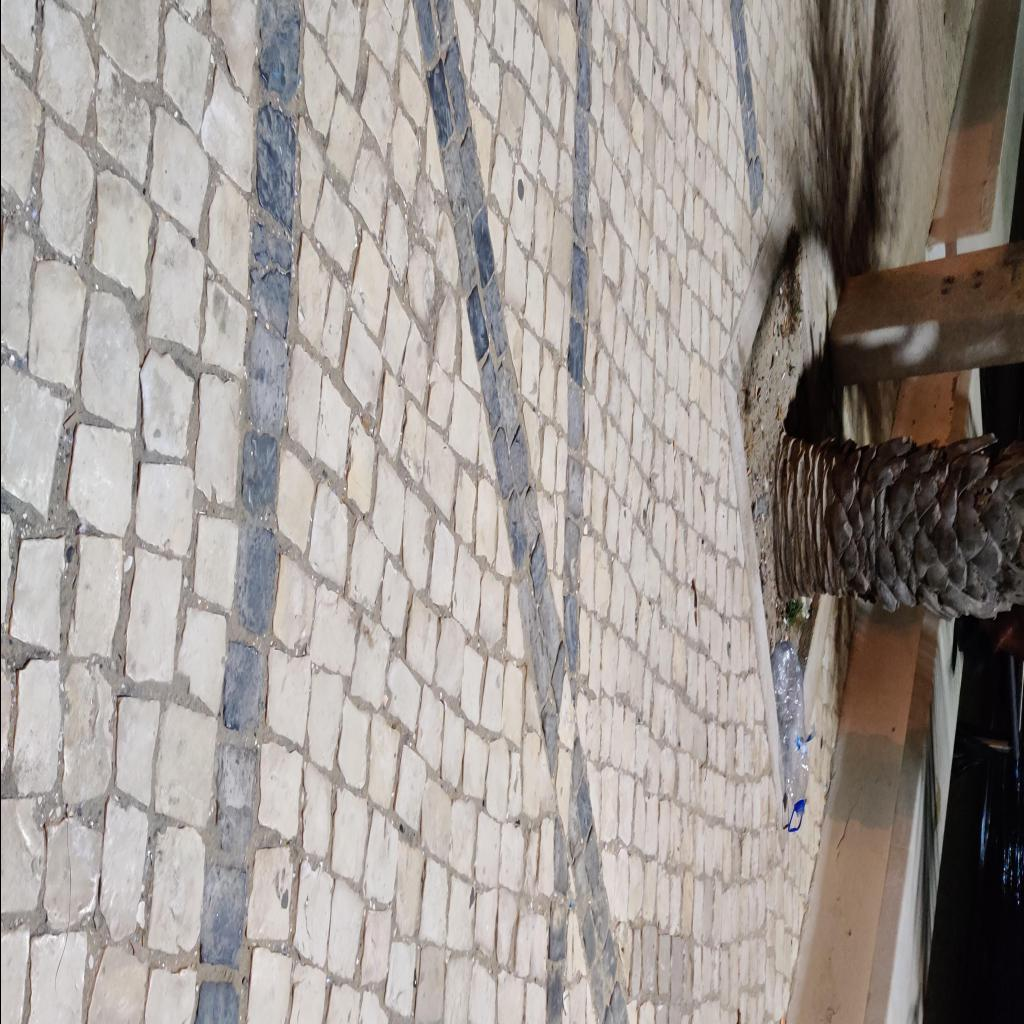Cigarette: (673, 436, 676, 453), (754, 385, 756, 399)
Clear plastic bottle: (770, 642, 810, 832)
